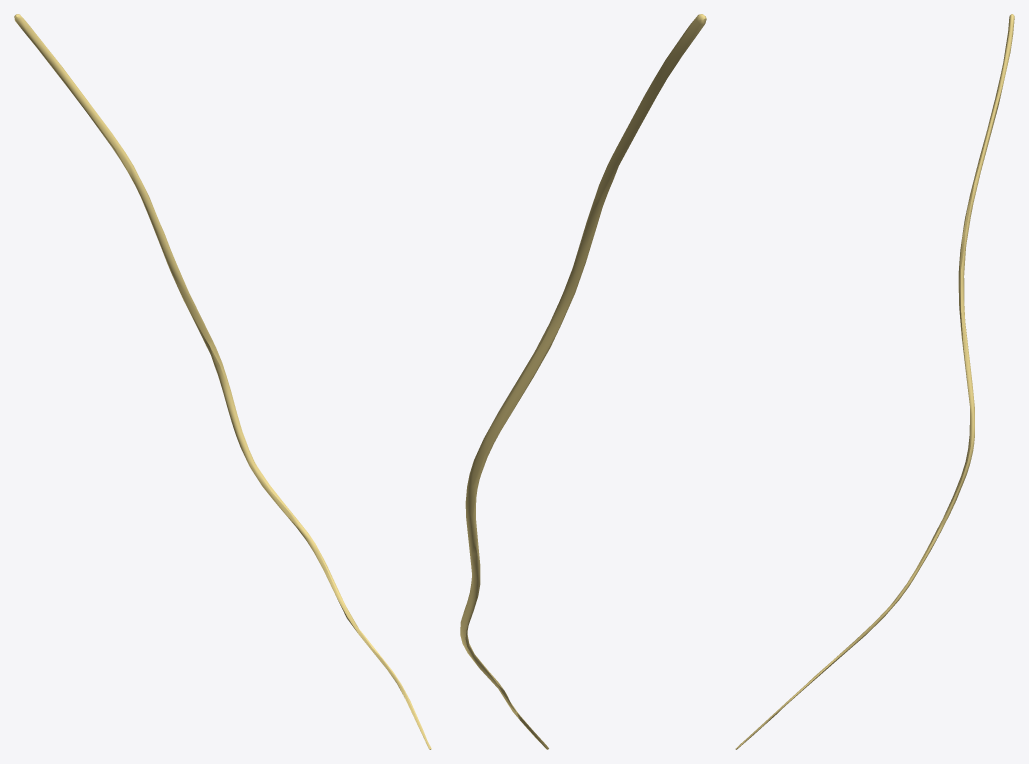
File: fma65342_fj4284.glb
3 views of the same model, side by side, from view 1: azimuth 30°, elevation 25°; view 2: azimuth 150°, elevation 25°; view 3: azimuth 270°, elevation 25° (orthographic). The views are drawn at different scales.
Parts seen in each view (by area): view 1: FMA65342_FJ4284; view 2: FMA65342_FJ4284; view 3: FMA65342_FJ4284.
Part boxes in pixels (x1,y1,x2,y2): FMA65342_FJ4284: [14, 14, 431, 749]; FMA65342_FJ4284: [460, 14, 706, 749]; FMA65342_FJ4284: [735, 14, 1014, 749].
Size of the model in its own units: 0.0485 by 0.1207 by 0.0492.
